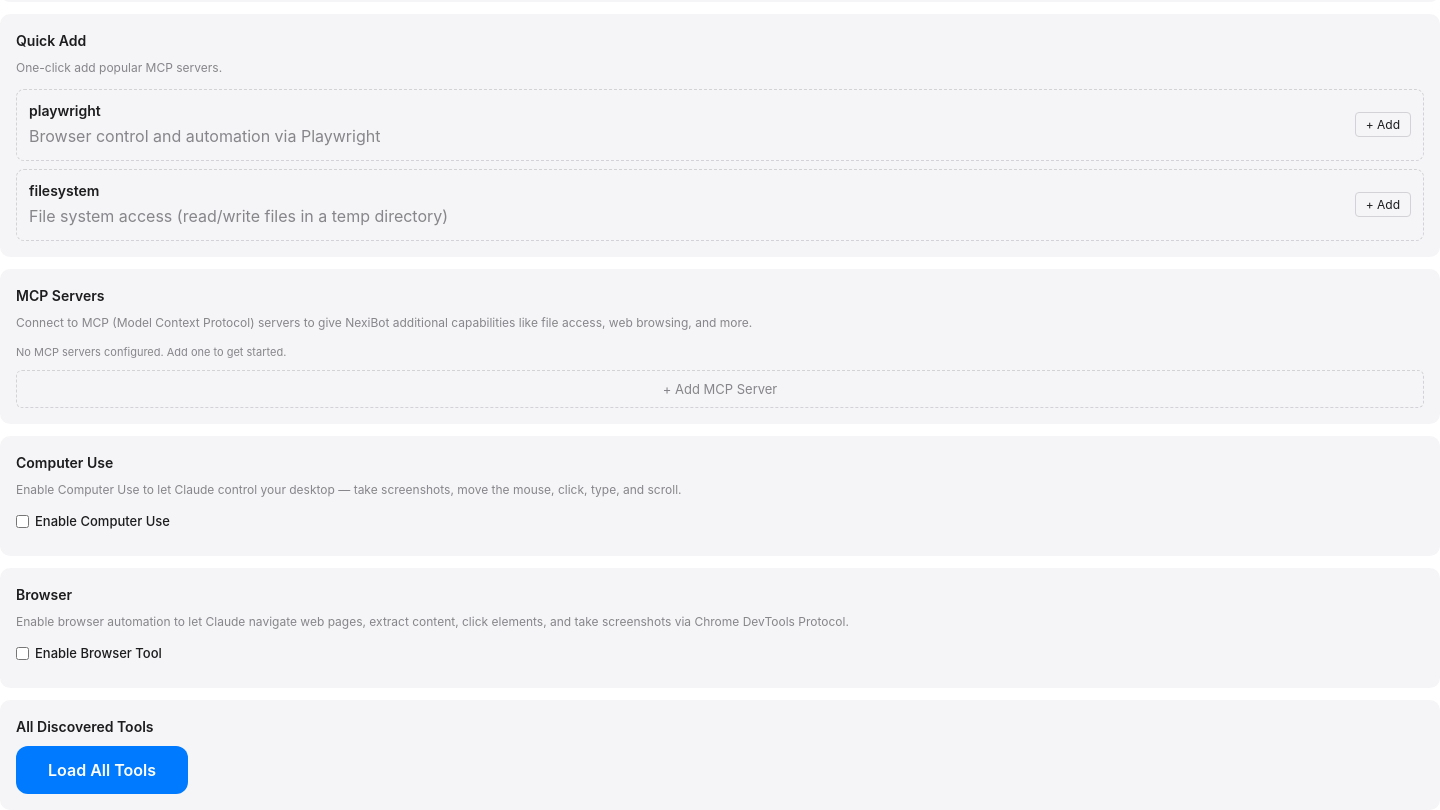
it: MCP add form › Cancel button hides the add form
(page scrolled)
Click the button "+ Add MCP Server" at [720, 389], box [16,370,1424,408]
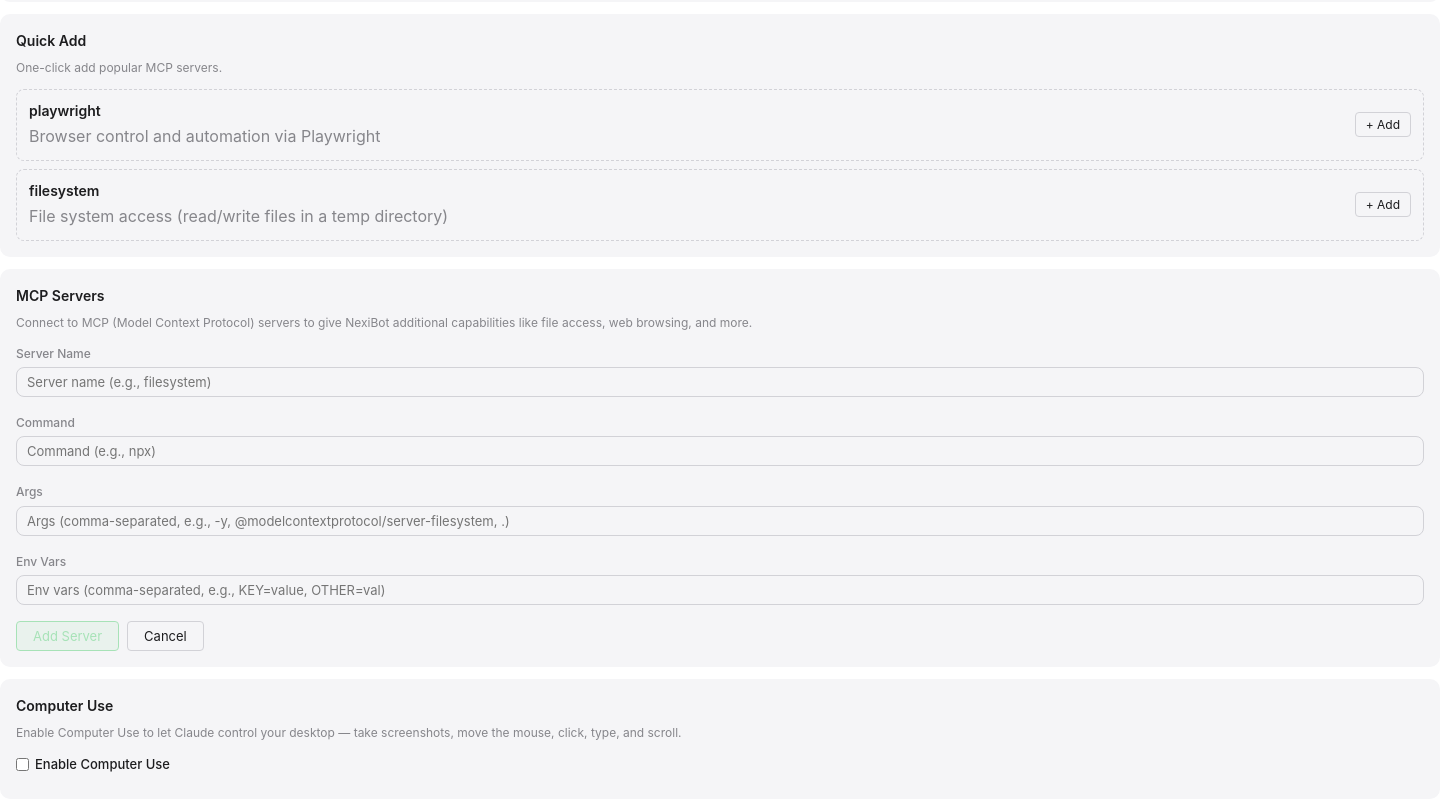
Now the field with placeholder "Server name (e.g., filesystem)" is shown, box [16,367,1424,397]
Click the button "Cancel" at [165, 636], box [127,621,204,651]
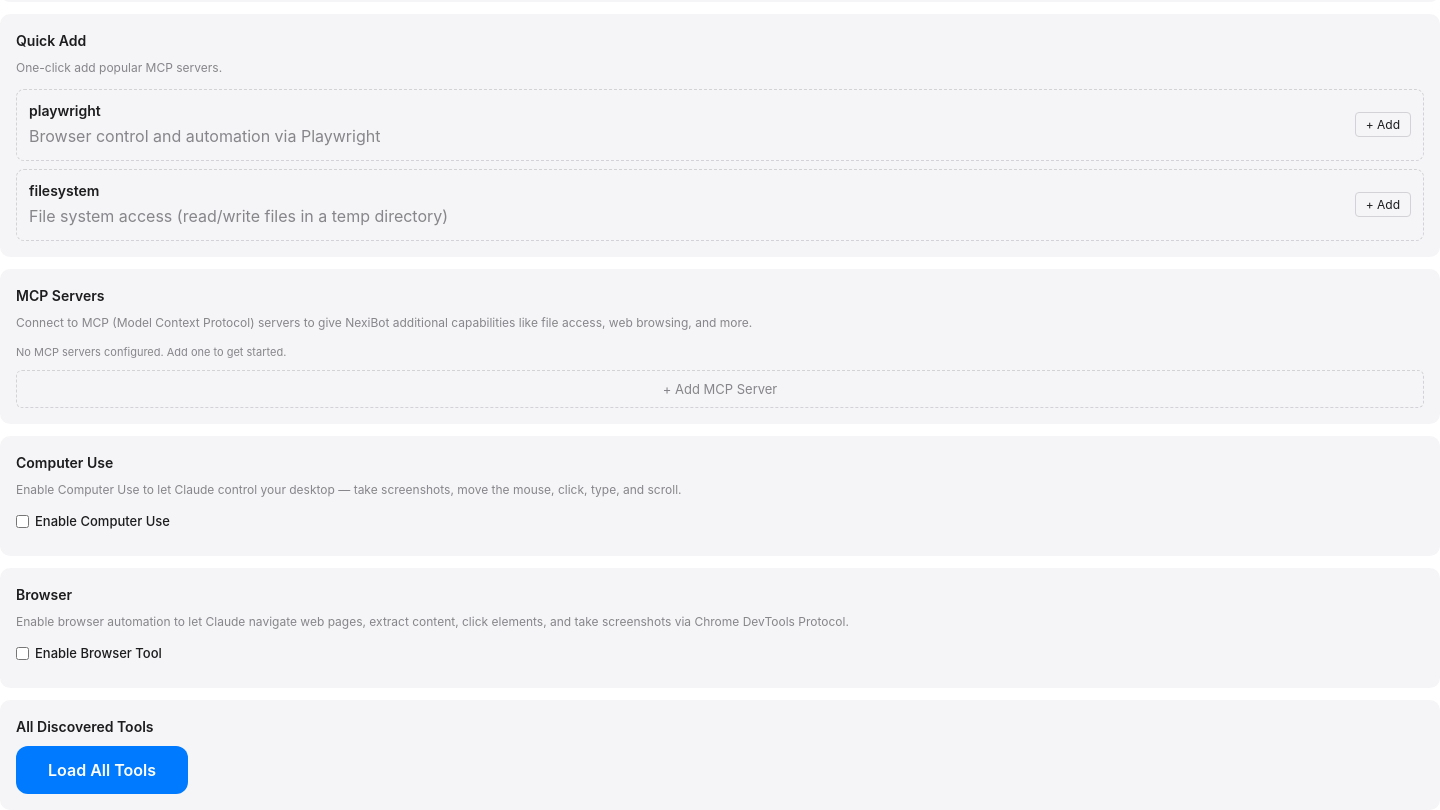
Now the text with placeholder "Server Name" is gone
Now the button "+ Add MCP Server" is shown, box [16,370,1424,408]
